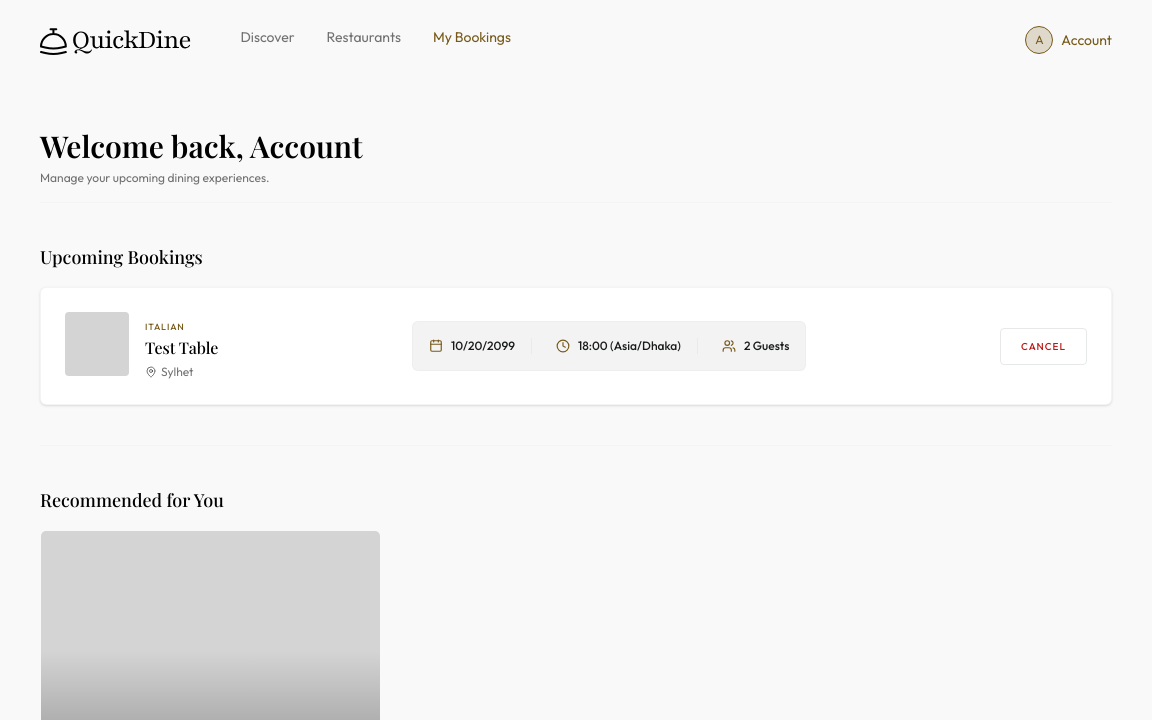
Test: complete page journeys › diner cancels a booking and sees dining history
This screenshot has width=1152, height=720.
Click the button "Cancel".
click(1044, 346)  # box [1000,328,1087,364]
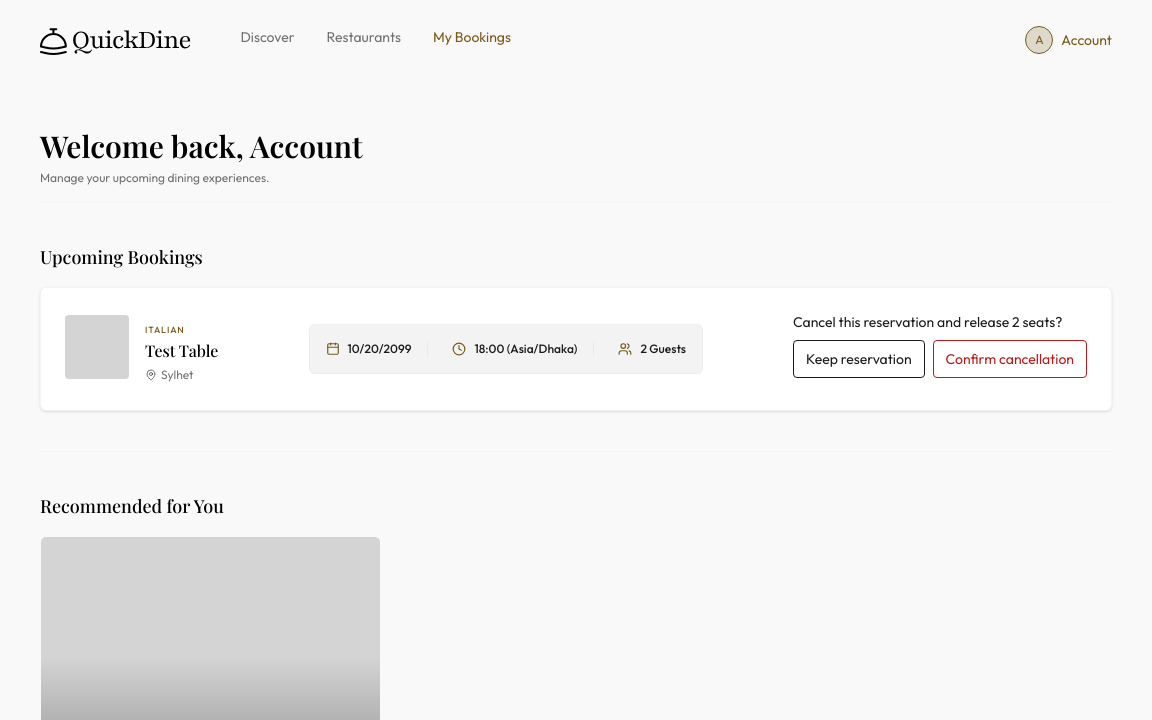
Click the button "Confirm cancellation".
click(1010, 359)  # box [933,340,1087,378]
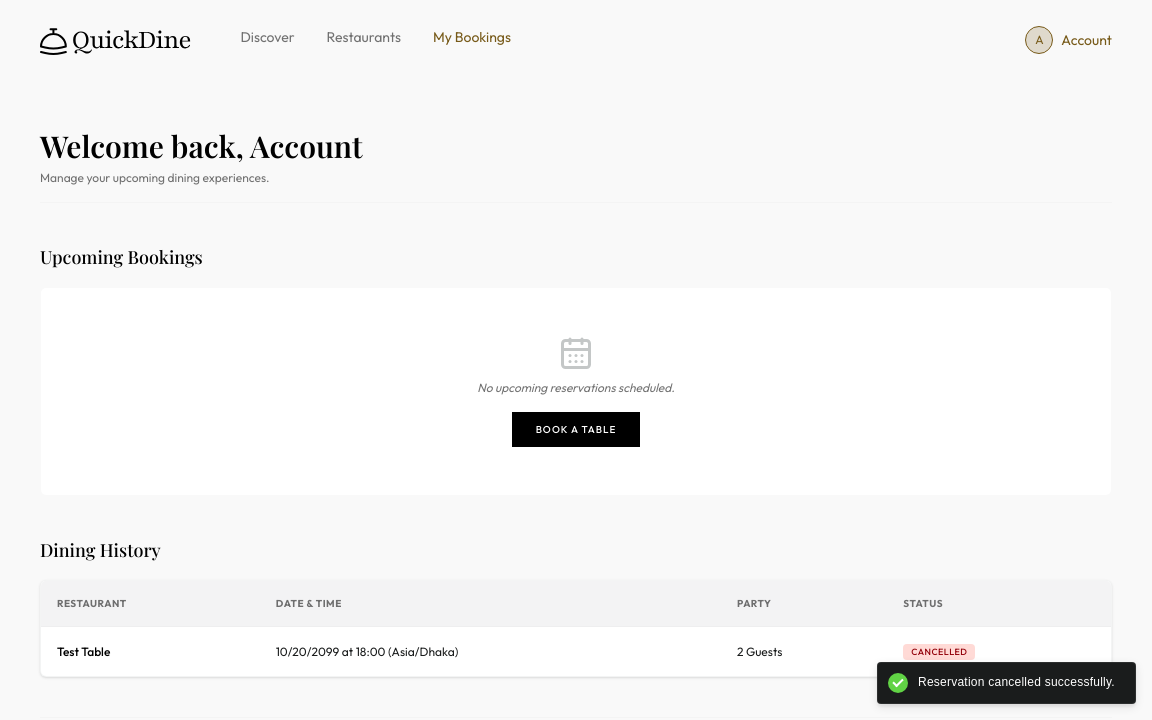
Check: the text "No upcoming reservations scheduled." is shown, box [477,380,675,395]
Check: the heading "Dining History" is shown, box [40,538,161,562]
